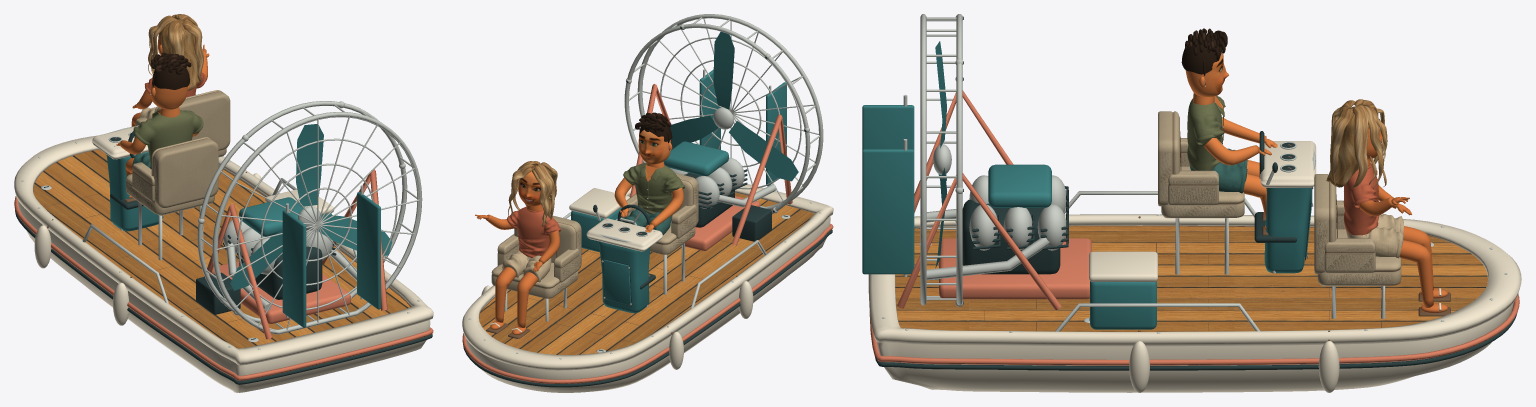
Rendered from airboat-couple-v6.glb.
3 renders of one model, left to right at view 1: azimuth 30°, elevation 25°; view 2: azimuth 150°, elevation 25°; view 3: azimuth 270°, elevation 25°, orthographic. The views are drawn at different scales.
Visible parts, largest first — view 1: Hull_cream, Hull_teak, Hull_chrome, Hull_teal, Hull_canvas, Hull_coral, Hull_rubber, Fan_teal, NinaHead_hairN, Barron_shirt, BarronHead_hairB, BarronHead_faceB (+3 smaller); view 2: Hull_cream, Hull_teak, Hull_chrome, Hull_teal, Hull_canvas, Hull_coral, Hull_rubber, Fan_teal, Nina_skinN, Barron_shirt, Nina_ninaShirt, NinaHead_hairGold (+10 smaller); view 3: Hull_cream, Hull_teak, Hull_teal, Hull_chrome, Hull_coral, Hull_canvas, Hull_rubber, NinaHead_hairN, Nina_skinN, Barron_shirt, Nina_ninaShirt, NinaHead_hairGold (+8 smaller).
Part boxes in pixels (box(x1,y1,x2,y2)): Hull_cream: box(14, 125, 433, 392); Hull_teak: box(33, 149, 410, 348); Hull_chrome: box(21, 101, 422, 349); Hull_teal: box(106, 151, 380, 327); Hull_canvas: box(126, 90, 230, 214); Hull_coral: box(14, 137, 433, 380); Hull_rubber: box(15, 125, 432, 384); Fan_teal: box(230, 124, 392, 290); NinaHead_hairN: box(148, 14, 203, 90); Barron_shirt: box(133, 110, 203, 167); BarronHead_hairB: box(150, 52, 191, 89); BarronHead_faceB: box(151, 75, 187, 109); Hull_cream: box(462, 183, 833, 392); Hull_teak: box(479, 192, 814, 354); Hull_chrome: box(469, 14, 823, 359); Hull_teal: box(571, 69, 786, 313); Hull_canvas: box(491, 173, 698, 298); Hull_coral: box(462, 84, 833, 383); Hull_rubber: box(463, 27, 832, 387); Fan_teal: box(670, 32, 798, 181); Nina_skinN: box(490, 204, 559, 334); Barron_shirt: box(623, 162, 684, 214); Nina_ninaShirt: box(507, 206, 560, 257); NinaHead_hairGold: box(508, 161, 555, 226); Hull_cream: box(868, 141, 1521, 392); Hull_teak: box(895, 226, 1487, 331); Hull_teal: box(862, 105, 1312, 329); Hull_chrome: box(882, 14, 1507, 333); Hull_coral: box(869, 90, 1519, 365); Hull_canvas: box(1158, 111, 1401, 285); Hull_rubber: box(875, 16, 1516, 370); NinaHead_hairN: box(1326, 100, 1383, 188); Nina_skinN: box(1357, 159, 1447, 312); Barron_shirt: box(1187, 95, 1225, 170); Nina_ninaShirt: box(1343, 163, 1378, 235); NinaHead_hairGold: box(1351, 99, 1387, 188).
Size of the model in its own units: 3.36 by 3.67 by 6.96.
27 materials, 14 textured.
